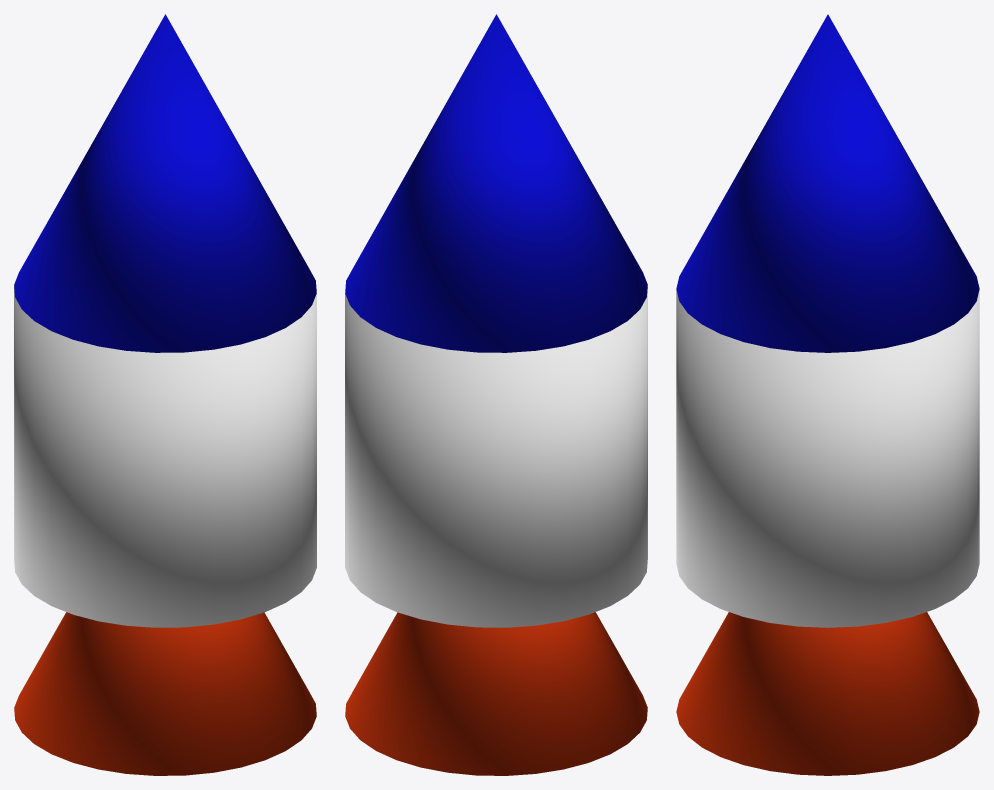
File: RoughRocket.fbx
3 renders of one model, left to right at view 1: azimuth 30°, elevation 25°; view 2: azimuth 150°, elevation 25°; view 3: azimuth 270°, elevation 25°, orthographic.
Parts seen in each view (by area): view 1: Body, Tip, Nozzle; view 2: Body, Tip, Nozzle; view 3: Body, Tip, Nozzle.
Boxes of the visible parts, box(x1,y1,x2,y2) form: Body: box(14, 285, 316, 627); Tip: box(14, 14, 316, 352); Nozzle: box(14, 612, 316, 775); Body: box(345, 285, 647, 627); Tip: box(345, 14, 647, 352); Nozzle: box(345, 612, 647, 775); Body: box(676, 290, 979, 627); Tip: box(676, 14, 979, 352); Nozzle: box(676, 612, 979, 775).
Bounding box in the file's own units: 200 × 508 × 200.
